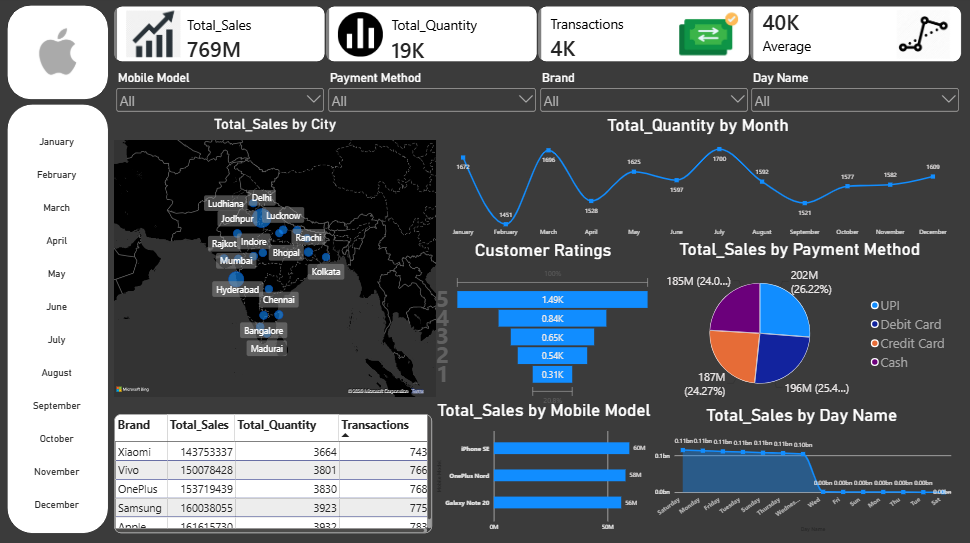

This screenshot's page, from the dashboard's own definition file:
{"tool":"powerbi","page":{"name":"Page 1","canvas":[1920,1080],"ordinal":0},"visuals":[{"type":"shape","box":[20,16.7,200,186.7],"z":0},{"type":"image","box":[10,6.7,220,203.3],"z":1000},{"type":"shape","box":[20,210,200,846.7],"z":2000},{"type":"advancedSlicerVisual","fields":{"Values":["SalesData.Date.Variation.Date Hierarchy.Month"]},"box":[32.5,232.5,172.5,822.5],"z":3000},{"type":"cardVisual","fields":{"Data":["SalesData.Total_Sales","SalesData.Total_Quantity","SalesData.Transactions","SalesData.Average"]},"box":[230,17.5,1670,110],"z":4000},{"type":"map","fields":{"Category":["SalesData.City"],"Size":["SalesData.Total_Sales"]},"box":[230,232.5,635,555],"z":5000},{"type":"lineChart","fields":{"Y":["SalesData.Total_Quantity"],"Category":["SalesData.Date.Variation.Date Hierarchy.Month"]},"box":[884.9,232.6,993.3,244.4],"z":6000},{"type":"clusteredBarChart","fields":{"Category":["SalesData.Mobile Model"],"Y":["SalesData.Total_Sales"]},"box":[865,795,425,262.5],"z":7000},{"type":"pieChart","fields":{"Category":["SalesData.Payment Method"],"Y":["SalesData.Total_Sales"]},"box":[1287.5,477.5,590,317.5],"z":8000},{"type":"funnel","title":" Customer Ratings","fields":{"Category":["SalesData.Customer Ratings"],"Y":["CountNonNull(SalesData.Customer Ratings)"]},"box":[866,478,422,328],"z":9000},{"type":"areaChart","fields":{"Category":["SalesData.Day Name"],"Y":["SalesData.Total_Sales"]},"box":[1290,805,590,250],"z":10000},{"type":"tableEx","fields":{"Values":["SalesData.Brand","SalesData.Total_Sales","SalesData.Total_Quantity","SalesData.Transactions"]},"box":[230.6,821.8,626.7,234.5],"z":11000},{"type":"slicer","fields":{"Values":["SalesData.Mobile Model"]},"box":[230,146,417.5,87.5],"z":12000},{"type":"slicer","fields":{"Values":["SalesData.Payment Method"]},"box":[648,146,418,88],"z":13000},{"type":"slicer","fields":{"Values":["SalesData.Brand"]},"box":[1066,146,417.5,87.5],"z":14000},{"type":"slicer","fields":{"Values":["SalesData.Day Name"]},"box":[1482.5,145,417.5,105],"z":15000}]}

Visuals, with their boxes in screenshot pixels (x1, y1, x2, y2), scaled from the page's 1920x1080 canvas onto the 970x543 screenshot:
shape: {"left": 10, "top": 8, "right": 111, "bottom": 102}
image: {"left": 5, "top": 3, "right": 116, "bottom": 106}
shape: {"left": 10, "top": 106, "right": 111, "bottom": 531}
advancedSlicerVisual - SalesData.Date.Variation.Date Hierarchy.Month: {"left": 16, "top": 117, "right": 104, "bottom": 530}
cardVisual - SalesData.Total_Sales x SalesData.Total_Quantity: {"left": 116, "top": 9, "right": 960, "bottom": 64}
map - SalesData.City x SalesData.Total_Sales: {"left": 116, "top": 117, "right": 437, "bottom": 396}
lineChart - SalesData.Total_Quantity x SalesData.Date.Variation.Date Hierarchy.Month: {"left": 447, "top": 117, "right": 949, "bottom": 240}
clusteredBarChart - SalesData.Mobile Model x SalesData.Total_Sales: {"left": 437, "top": 400, "right": 652, "bottom": 532}
pieChart - SalesData.Payment Method x SalesData.Total_Sales: {"left": 650, "top": 240, "right": 949, "bottom": 400}
" Customer Ratings" funnel: {"left": 438, "top": 240, "right": 651, "bottom": 405}
areaChart - SalesData.Day Name x SalesData.Total_Sales: {"left": 652, "top": 405, "right": 950, "bottom": 530}
tableEx - SalesData.Brand x SalesData.Total_Sales: {"left": 117, "top": 413, "right": 433, "bottom": 531}
slicer - SalesData.Mobile Model: {"left": 116, "top": 73, "right": 327, "bottom": 117}
slicer - SalesData.Payment Method: {"left": 327, "top": 73, "right": 539, "bottom": 118}
slicer - SalesData.Brand: {"left": 539, "top": 73, "right": 749, "bottom": 117}
slicer - SalesData.Day Name: {"left": 749, "top": 73, "right": 960, "bottom": 126}
